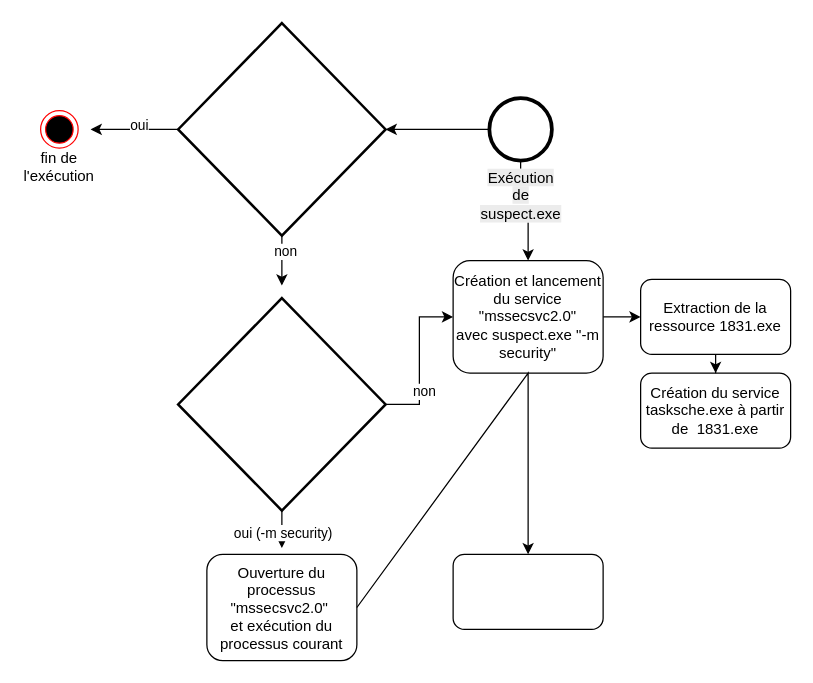
Image size: 813x683. Some labels were removed from this diagram. Each missing label, with the box of its shape:
Est-ce que suspect.exe est lancé avec un argument?: (176, 296, 386, 511)
Exécution du code pour l'exploit de la faille SMB: (452, 553, 603, 629)
kill switch répond à une requête DNS?: (176, 21, 386, 236)
